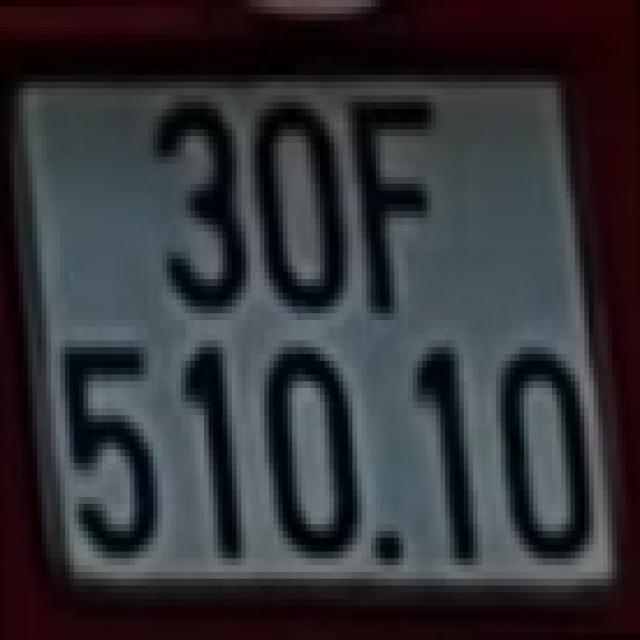0: (264, 341, 362, 558), (255, 95, 348, 314), (501, 341, 594, 558)
1: (413, 341, 482, 565), (181, 341, 246, 565)
3: (148, 95, 250, 314)
5: (61, 334, 162, 558)
F: (348, 89, 436, 313)
